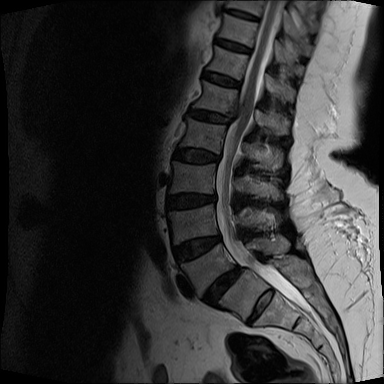Degenerative Disc Disease (DDD): (187, 101, 238, 130), (198, 64, 243, 92), (215, 33, 255, 58), (222, 4, 264, 25)
Lumbar Disc Bulge (LDB): (165, 220, 234, 267), (197, 254, 255, 309), (152, 183, 226, 214), (168, 143, 223, 170)
Spinal Stenosis (SS): (223, 105, 244, 132), (210, 224, 227, 251)
Spondylolisthesis: (213, 257, 265, 294)
